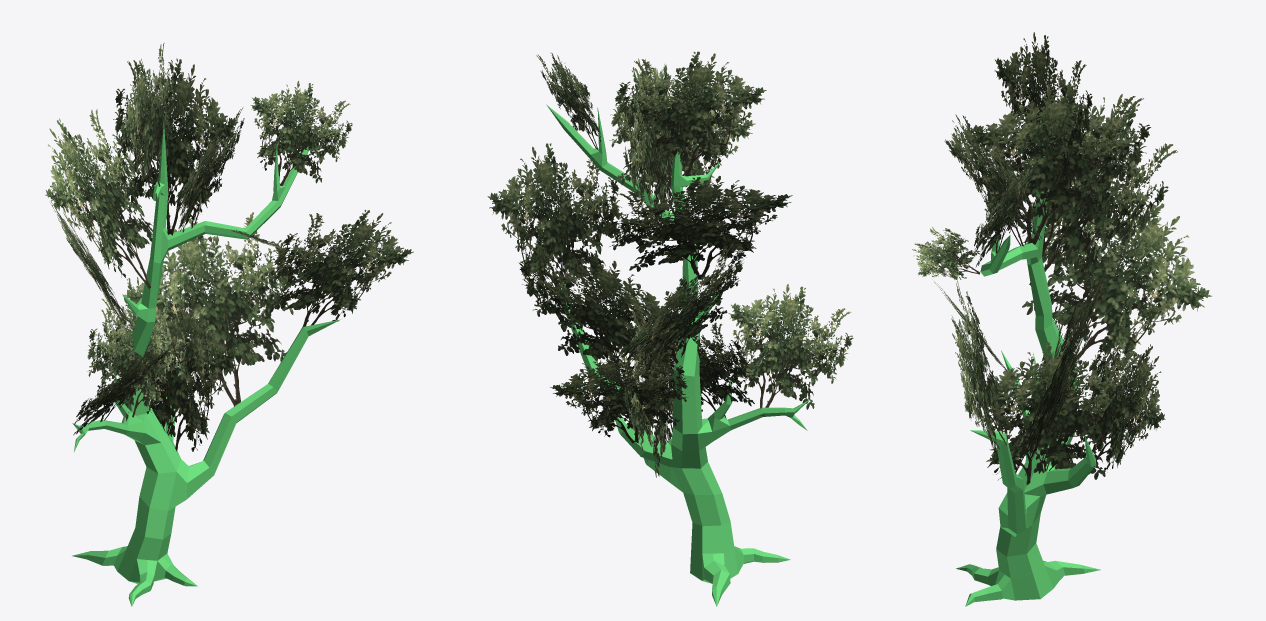
Rendered from Tree.Healthy_3.fbx.
The picture shows the model from 3 angles, left to right: view 1: azimuth 30°, elevation 25°; view 2: azimuth 150°, elevation 25°; view 3: azimuth 270°, elevation 25°; orthographic projection. The views are drawn at different scales.
Visible parts, largest first — view 1: Tree.Healthy_3; view 2: Tree.Healthy_3; view 3: Tree.Healthy_3.
Part boxes in pixels (x1=…): Tree.Healthy_3: x1=45, y1=42, x2=413, y2=606; Tree.Healthy_3: x1=487, y1=51, x2=853, y2=606; Tree.Healthy_3: x1=912, y1=32, x2=1211, y2=606.
Size of the model in its own units: 540 by 717 by 396.
